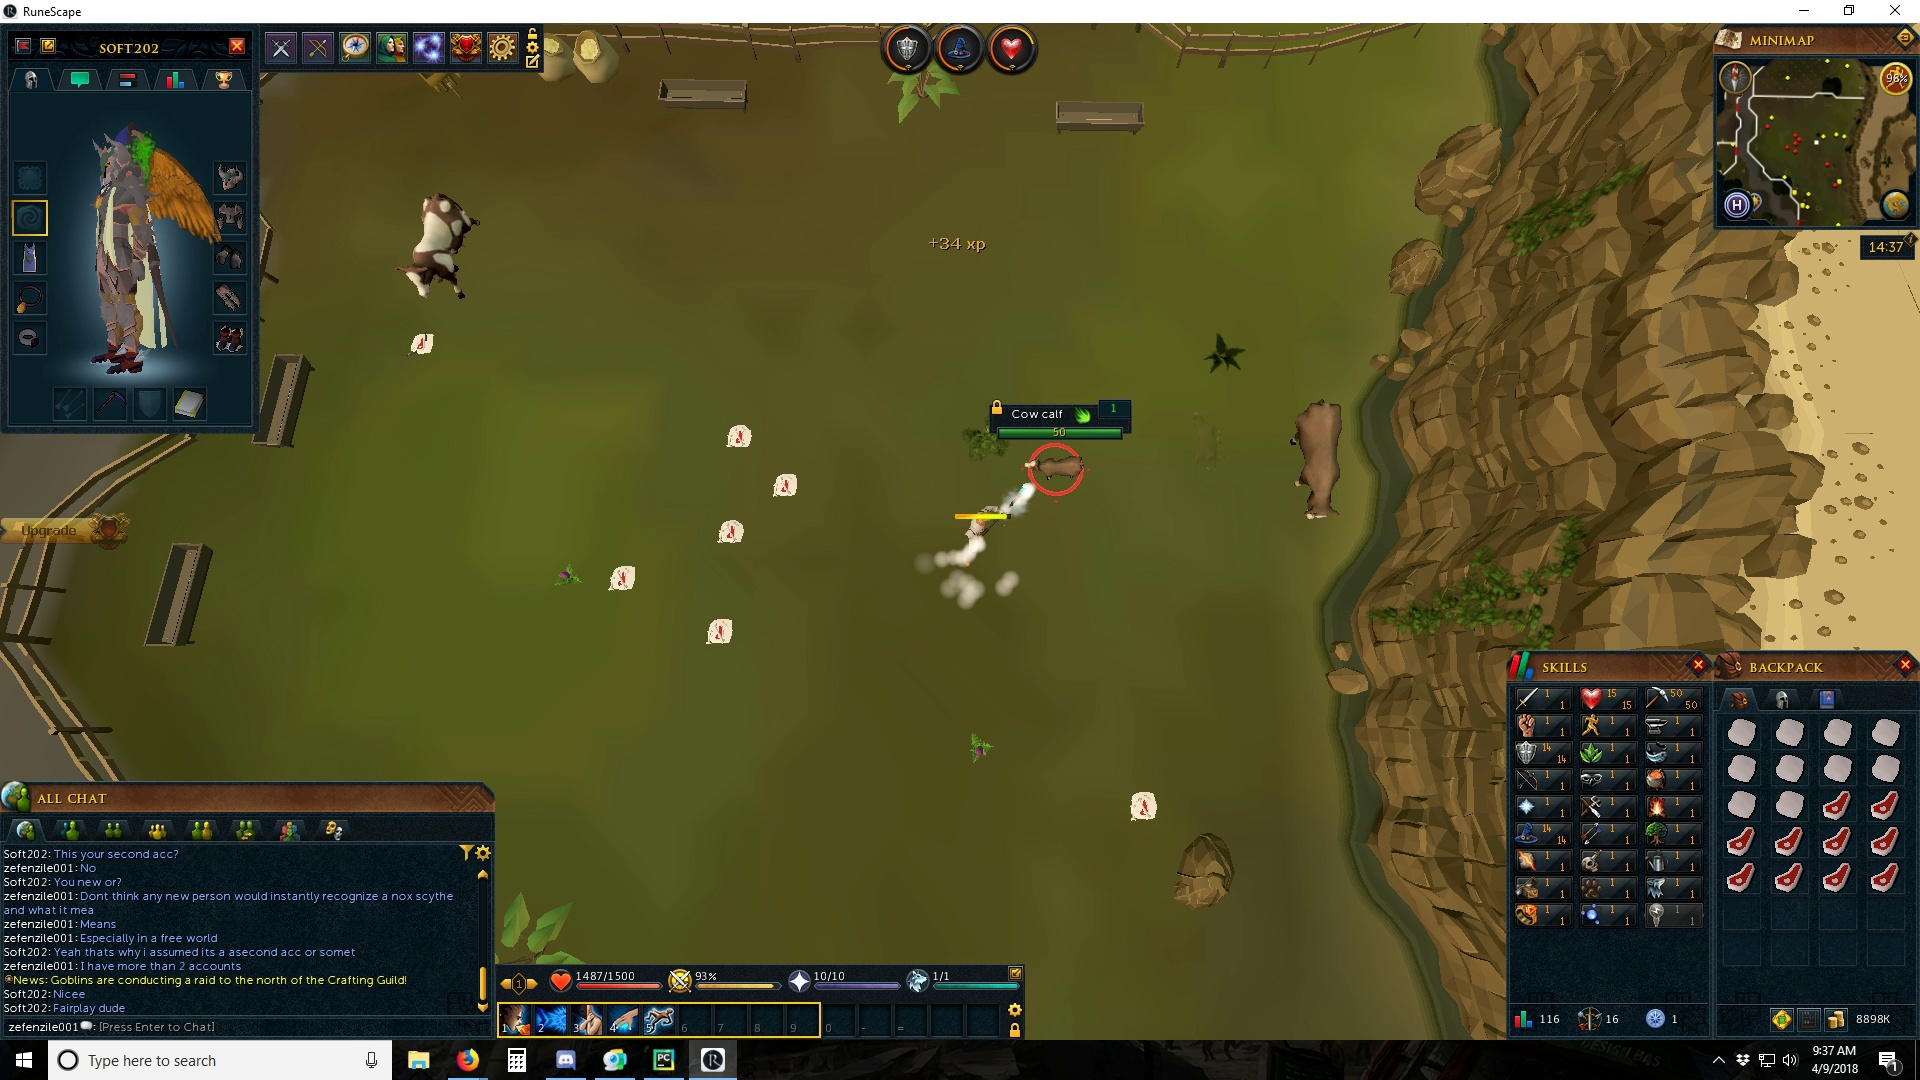calf: (1019, 454, 1085, 485)
cow: (396, 194, 481, 302), (1286, 400, 1344, 520)
cow_drop: (1124, 789, 1160, 825), (605, 560, 638, 596), (766, 469, 802, 501), (723, 422, 756, 454), (702, 615, 733, 647), (717, 520, 749, 547), (407, 331, 436, 357)
